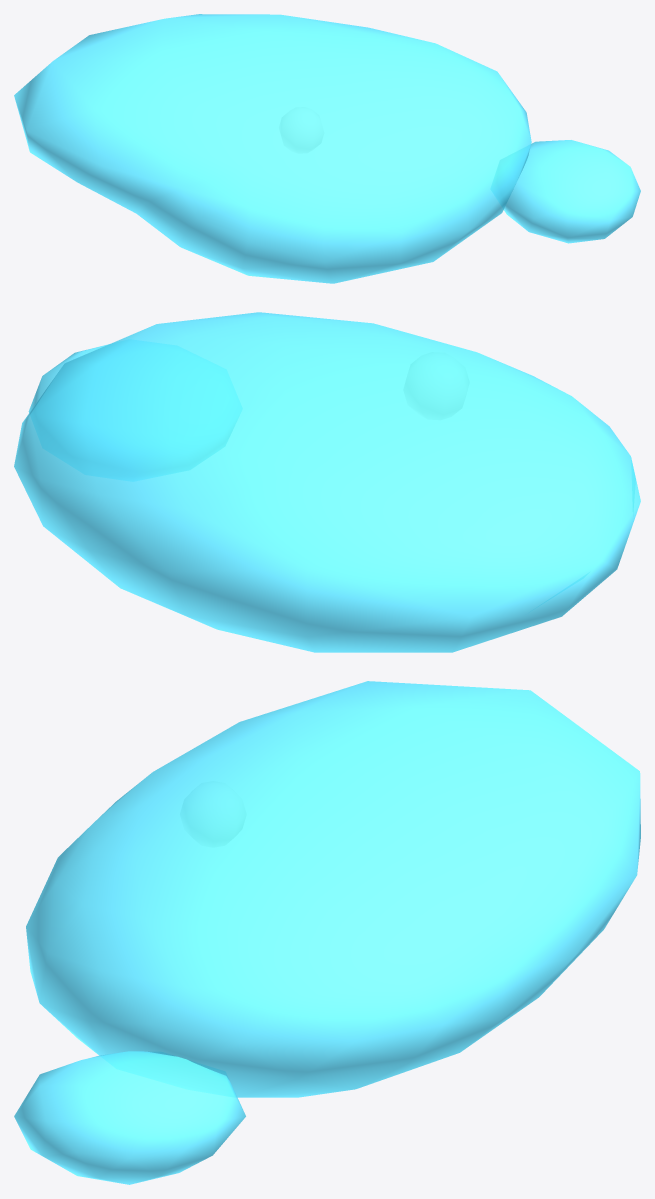
Rendered from slime_goo.glb.
3 renders of one model, top to bottom at view 1: azimuth 30°, elevation 25°; view 2: azimuth 150°, elevation 25°; view 3: azimuth 270°, elevation 25°, orthographic. The views are drawn at different scales.
Visible parts, largest first — view 1: slime_goo; view 2: slime_goo; view 3: slime_goo.
Part boxes in pixels (<box>): slime_goo: <box>14,14,640,283</box>; slime_goo: <box>14,312,640,652</box>; slime_goo: <box>14,681,640,1184</box>.
Size of the model in its own units: 0.1444 by 0.0506 by 0.1122.
